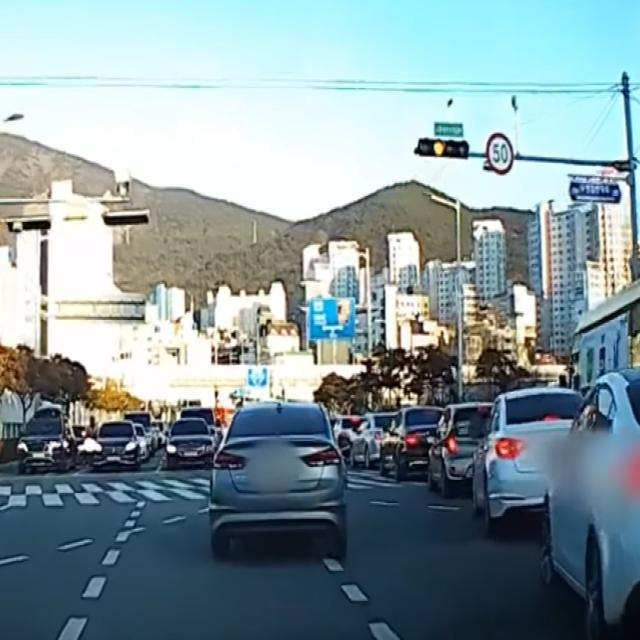Yellow Light: (432, 138, 446, 157)
